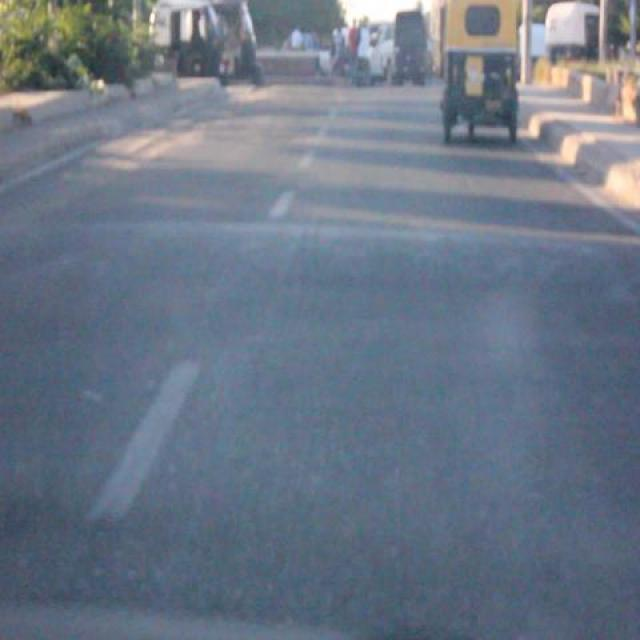Unmarked Bump: (6, 221, 640, 335)
